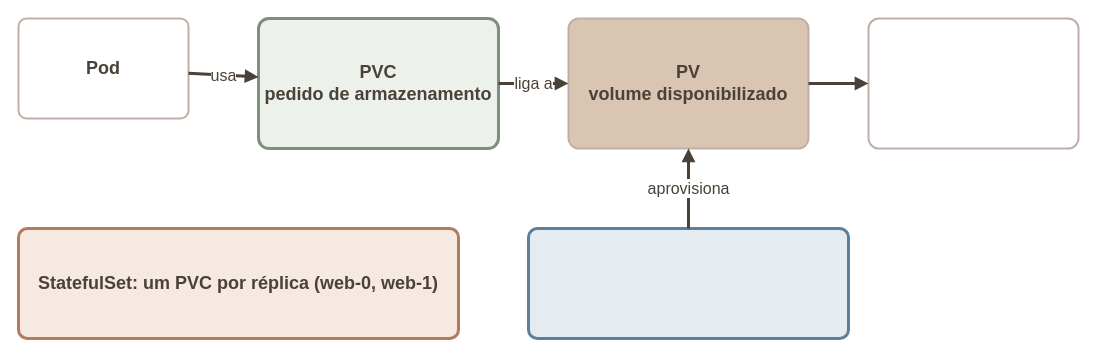
Some shapes in this 1097 by 357 pixel diagram are drawn without their labels. The box of each missing label's shape, as (x1, y1, x2, y2) in pixels:
Disco, NFS ou volume da nuvem: (867, 17, 1079, 149)
StorageClass cria volumes sob pedido: (526, 226, 850, 340)
